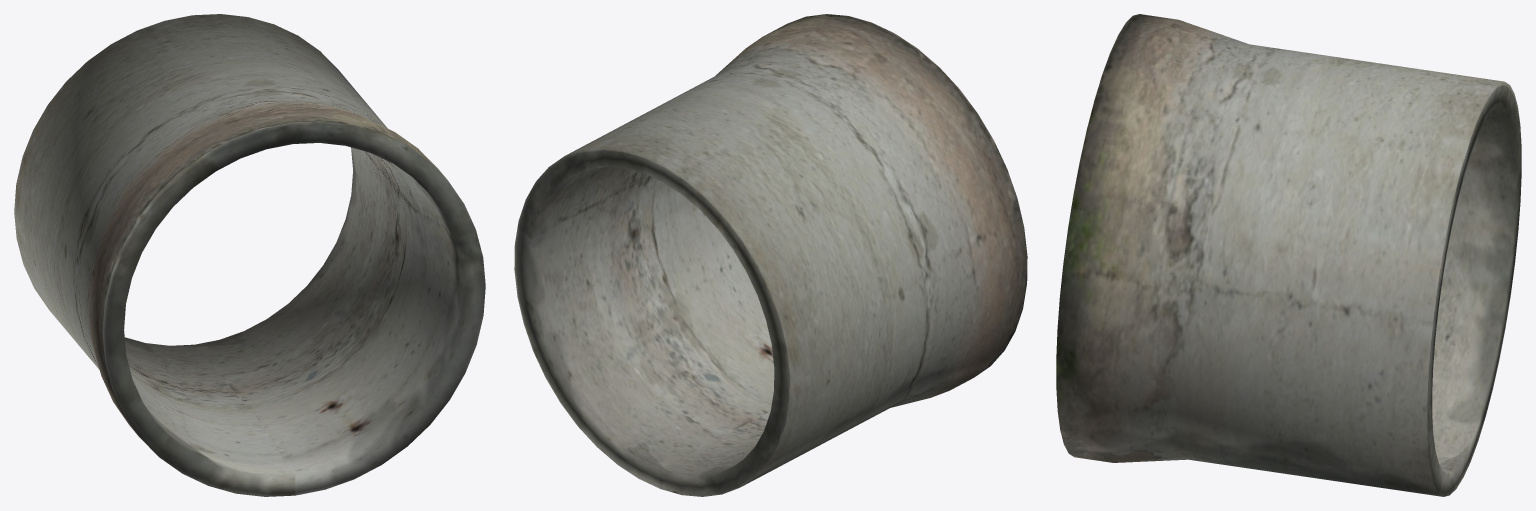
Rendered from concrete pipe beach.fbx.
3 renders of one model, left to right at view 1: azimuth 30°, elevation 25°; view 2: azimuth 150°, elevation 25°; view 3: azimuth 270°, elevation 25°, orthographic. The views are drawn at different scales.
Parts seen in each view (by area): view 1: Circle_001; view 2: Circle_001; view 3: Circle_001.
Part boxes in pixels (x1=…): Circle_001: x1=14, y1=14, x2=485, y2=496; Circle_001: x1=514, y1=14, x2=1027, y2=496; Circle_001: x1=1056, y1=14, x2=1521, y2=496.
Size of the model in its own units: 1.9 by 1.7 by 1.75.
